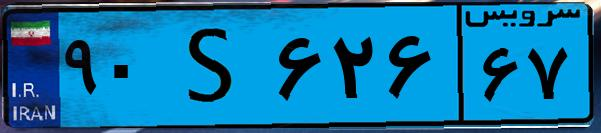0: (110, 28, 158, 98)
2: (330, 28, 385, 110)
6: (270, 28, 330, 110), (385, 28, 445, 110), (475, 38, 525, 113)
7: (525, 38, 570, 115)
9: (57, 26, 110, 100)
S: (158, 12, 270, 120)
